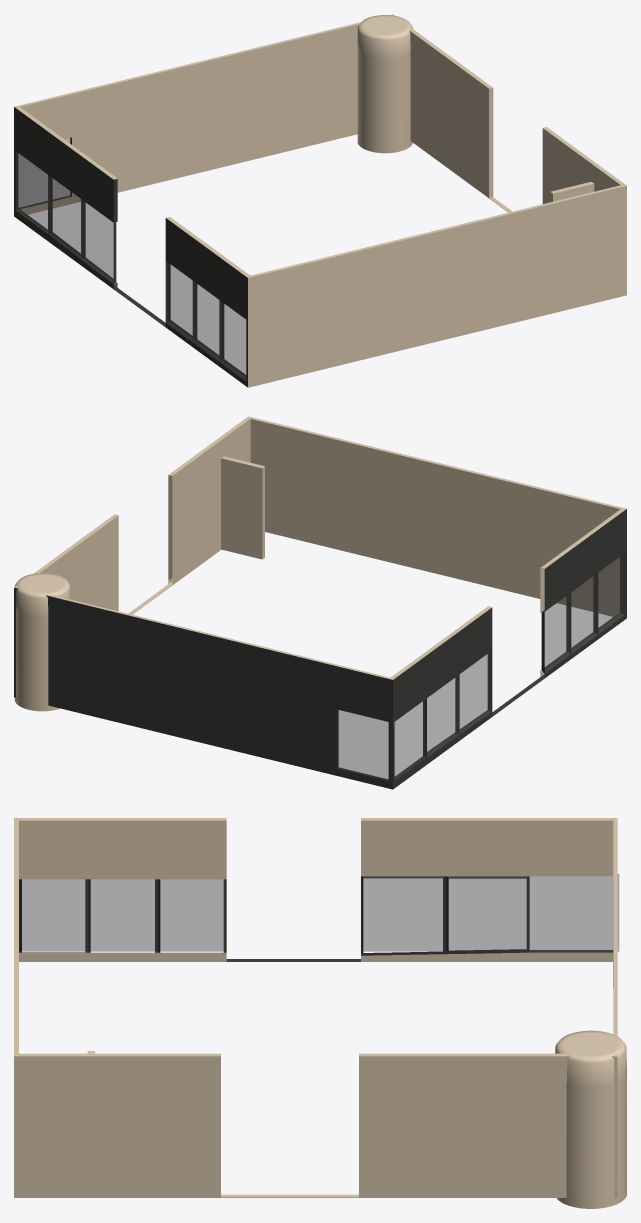
Rendered from Walls & Circular piller.fbx.
3 renders of one model, top to bottom at view 1: azimuth 30°, elevation 25°; view 2: azimuth 150°, elevation 25°; view 3: azimuth 270°, elevation 25°, orthographic. The views are drawn at different scales.
Visible parts, largest first — view 1: Cube, Cube.018, Cylinder; view 2: Cube, Cube.018, Cylinder, Cube.005; view 3: Cube, Cube.018, Cylinder.
Boxes of the visible parts, x1,y1,x2,y2 form: Cube: [14, 14, 626, 387]; Cube.018: [17, 138, 245, 376]; Cylinder: [357, 15, 412, 153]; Cube: [14, 416, 626, 789]; Cube.018: [337, 555, 622, 782]; Cylinder: [14, 573, 70, 711]; Cube.005: [221, 456, 264, 559]; Cube: [14, 818, 617, 1197]; Cube.018: [19, 874, 619, 987]; Cylinder: [555, 1030, 626, 1208].
Size of the model in its own units: 1946 by 558 by 2080.
